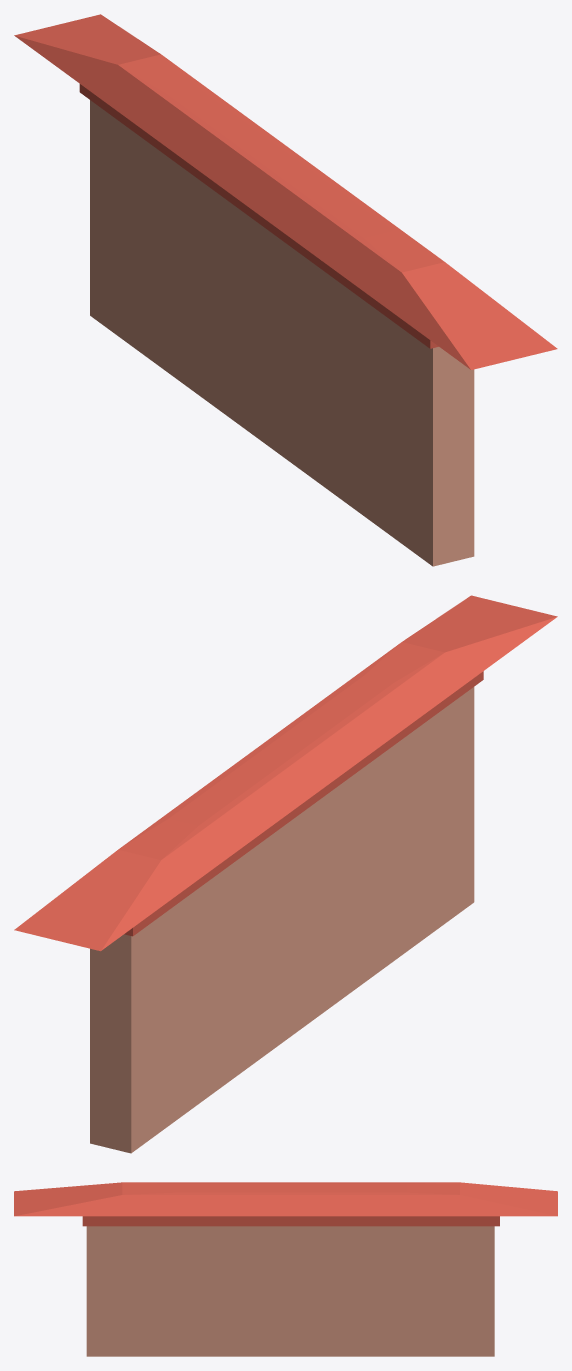
File: Wall.fbx
The picture shows the model from 3 angles, top to bottom: view 1: azimuth 30°, elevation 25°; view 2: azimuth 150°, elevation 25°; view 3: azimuth 270°, elevation 25°; orthographic projection. The views are drawn at different scales.
Parts seen in each view (by area): view 1: Cube, Cube.002; view 2: Cube, Cube.002; view 3: Cube, Cube.002.
Part boxes in pixels (x1,y1,x2,y2): Cube: (90,100,474,566); Cube.002: (14,14,557,369); Cube: (90,687,474,1153); Cube.002: (14,595,557,951); Cube: (86,1226,494,1356); Cube.002: (14,1182,557,1226).
Size of the model in its own units: 421 by 1264 by 3840.
